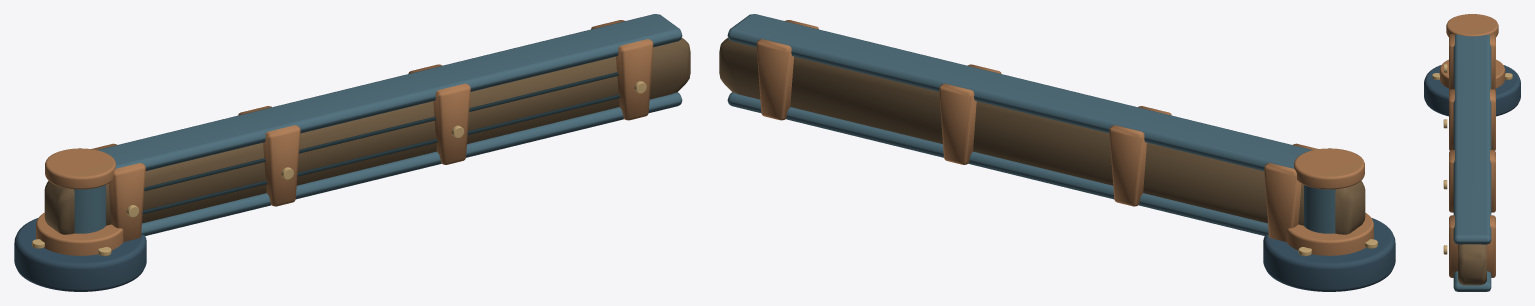
Rendered from STURMBASTION_DEFLECTOR.hi.glb.
The picture shows the model from 3 angles, left to right: view 1: azimuth 30°, elevation 25°; view 2: azimuth 150°, elevation 25°; view 3: azimuth 270°, elevation 25°; orthographic projection. The views are drawn at different scales.
Visible parts, largest first — view 1: DeflectorPivot_Geometry, STURMBASTION_DEFLECTOR_Geometry; view 2: DeflectorPivot_Geometry, STURMBASTION_DEFLECTOR_Geometry; view 3: DeflectorPivot_Geometry, STURMBASTION_DEFLECTOR_Geometry.
Boxes of the visible parts, x1,y1,x2,y2 form: DeflectorPivot_Geometry: (44,14,690,241); STURMBASTION_DEFLECTOR_Geometry: (14,213,146,291); DeflectorPivot_Geometry: (719,14,1365,241); STURMBASTION_DEFLECTOR_Geometry: (1263,213,1395,291); DeflectorPivot_Geometry: (1443,14,1498,291); STURMBASTION_DEFLECTOR_Geometry: (1424,59,1520,116).
Size of the model in its own units: 4.27 by 0.64 by 0.74.
